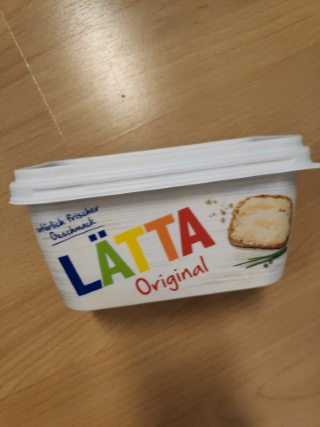laetta: (8, 134, 320, 312)
